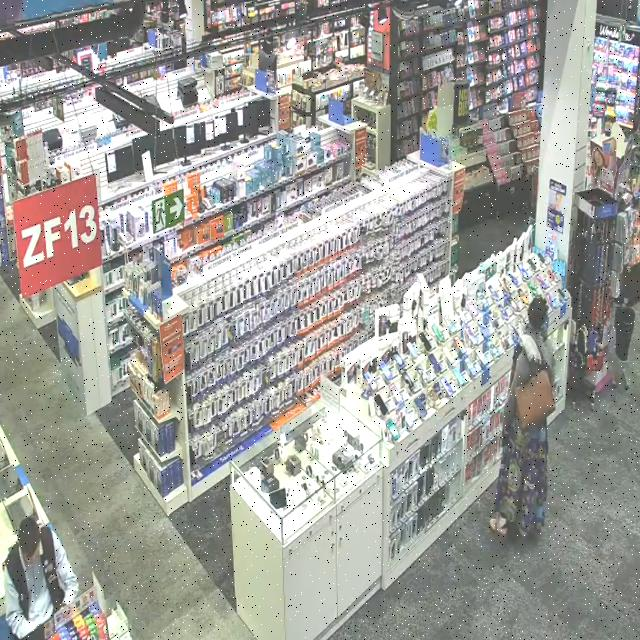bags: (516, 364, 555, 430)
person: (491, 297, 552, 536), (4, 517, 78, 639)
